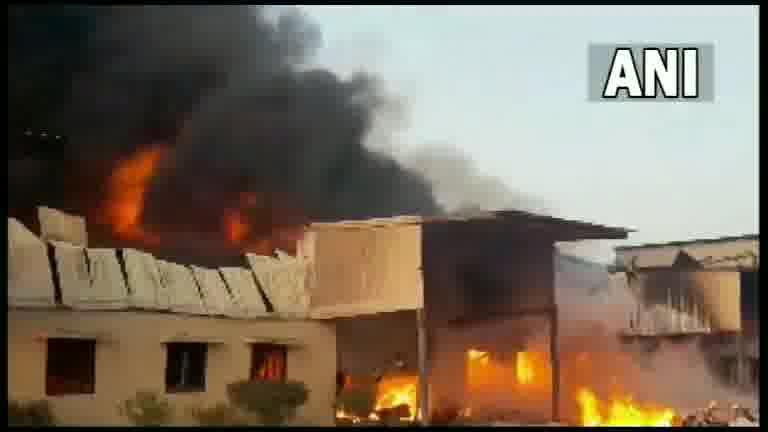fire: (366, 362, 686, 426)
smoke: (6, 10, 401, 220)
